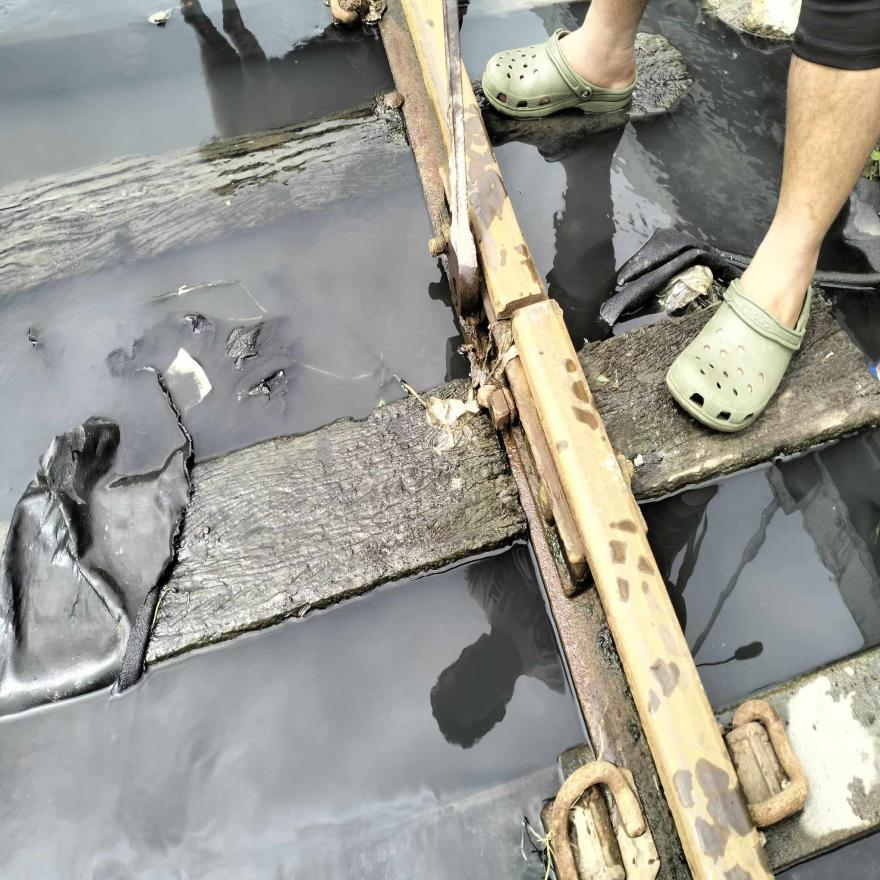railway-gap: (478, 250, 571, 358)
